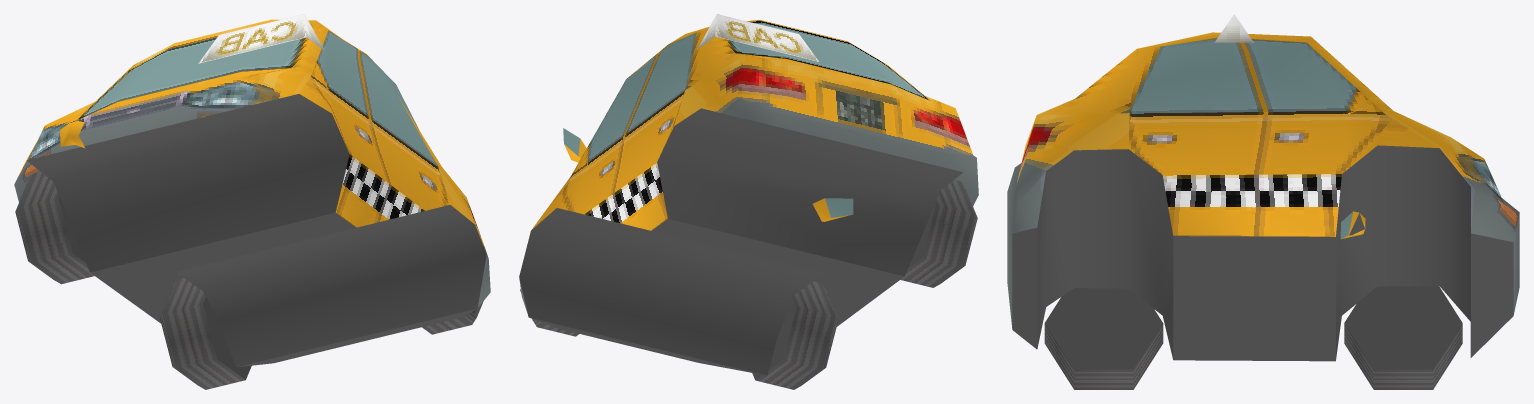
The model's file is ps2_save-icons_simple2000seriesvol109thetaxi2untenshuwayapparikimida.glb.
The picture shows the model from 3 angles, left to right: view 1: azimuth 30°, elevation 25°; view 2: azimuth 150°, elevation 25°; view 3: azimuth 270°, elevation 25°; orthographic projection. The views are drawn at different scales.
Parts seen in each view (by area): view 1: icon0.ico; view 2: icon0.ico; view 3: icon0.ico.
Part boxes in pixels (x1=…): icon0.ico: x1=14, y1=14, x2=490, y2=389; icon0.ico: x1=519, y1=14, x2=978, y2=389; icon0.ico: x1=1007, y1=14, x2=1519, y2=389.
Size of the model in its own units: 3.44 by 3.02 by 4.89.
Materials: 1 (1 with a texture image).
